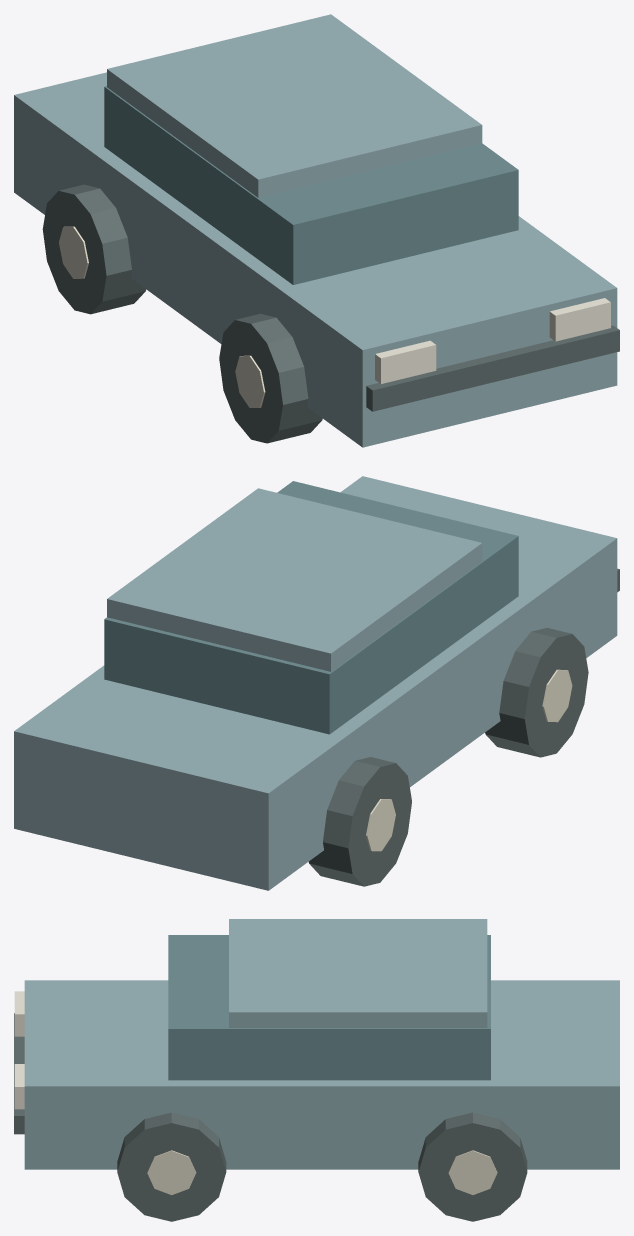
The picture shows the model from 3 angles, top to bottom: view 1: azimuth 30°, elevation 25°; view 2: azimuth 150°, elevation 25°; view 3: azimuth 270°, elevation 25°; orthographic projection. The views are drawn at different scales.
Size of the model in its own units: 2.12 by 1.48 by 4.23.
